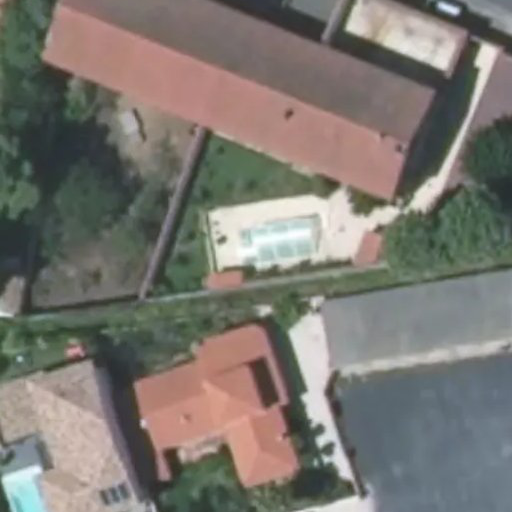pool: (214, 227, 296, 256)
